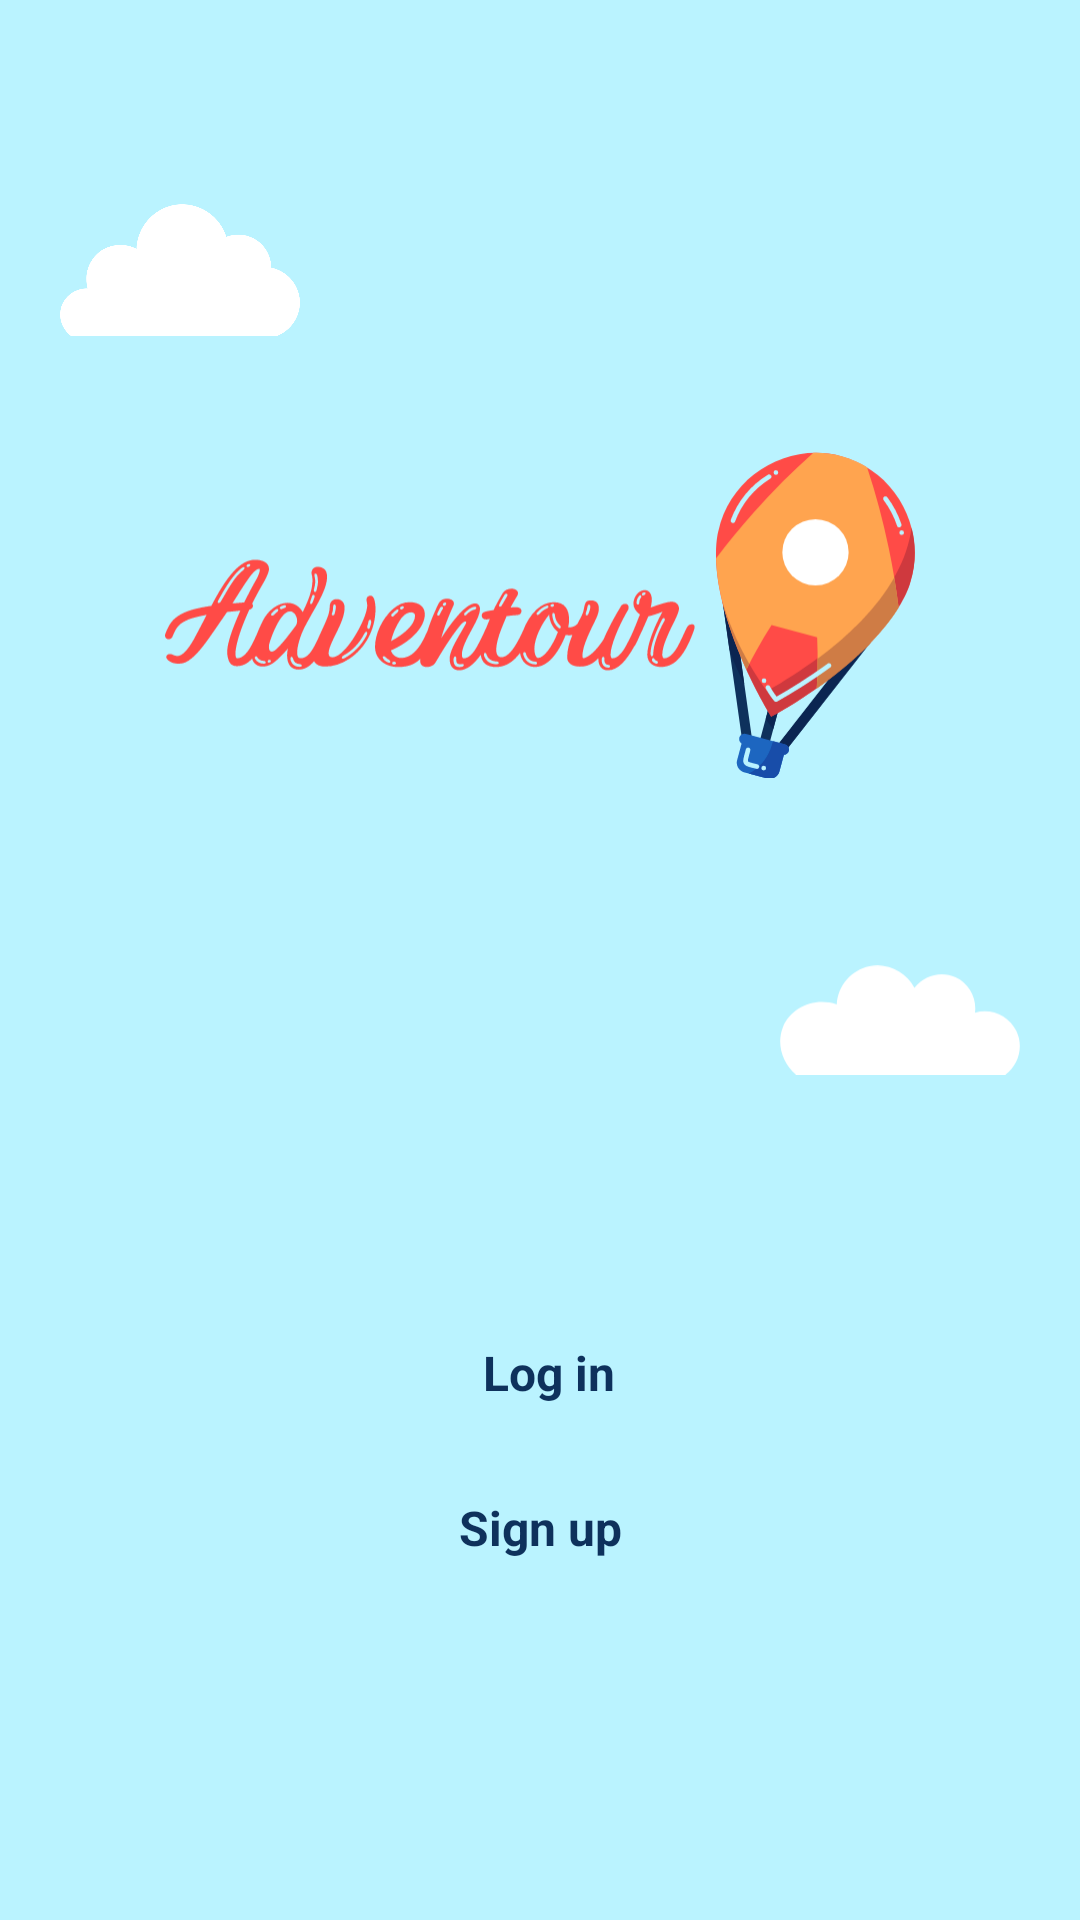

Icon bounding boxes for this 1080 x 1920 phone screenshot, format [x1, y1, x2, y2]:
cloud: [60, 204, 300, 336], [780, 965, 1020, 1075]
